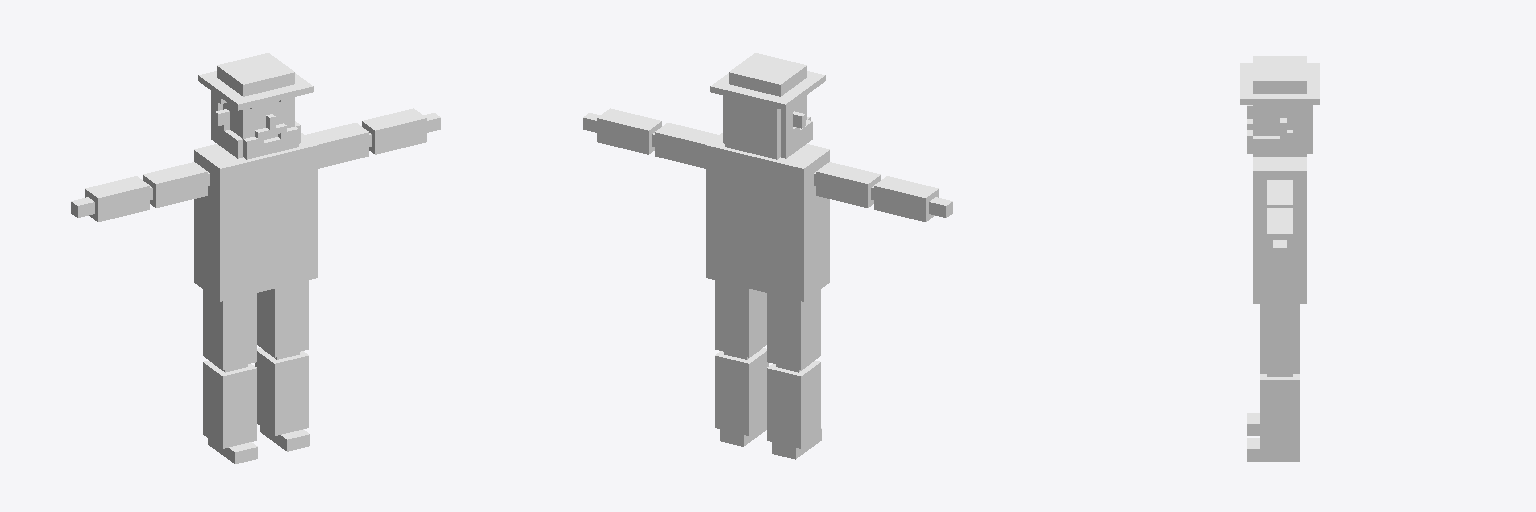
The model's file is Farmer.obj.
The picture shows the model from 3 angles: view 1: azimuth 30°, elevation 25°; view 2: azimuth 150°, elevation 25°; view 3: azimuth 270°, elevation 25°; orthographic projection.
Size of the model in its own units: 126 by 124 by 24.